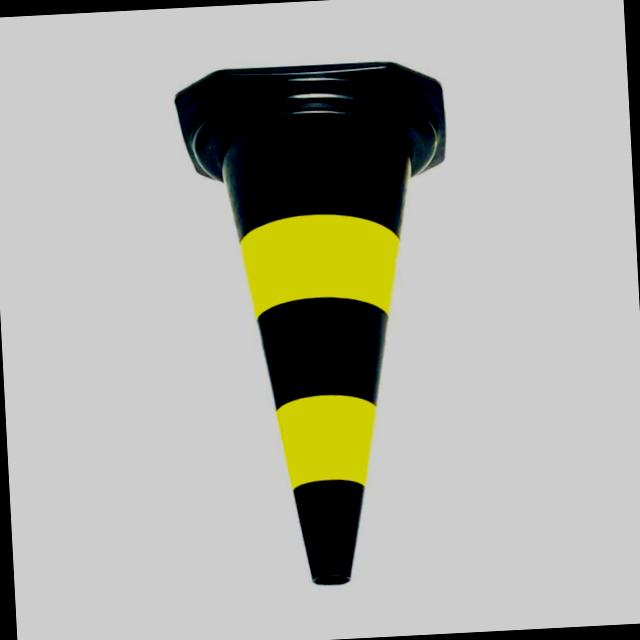cone: (157, 52, 487, 599)
